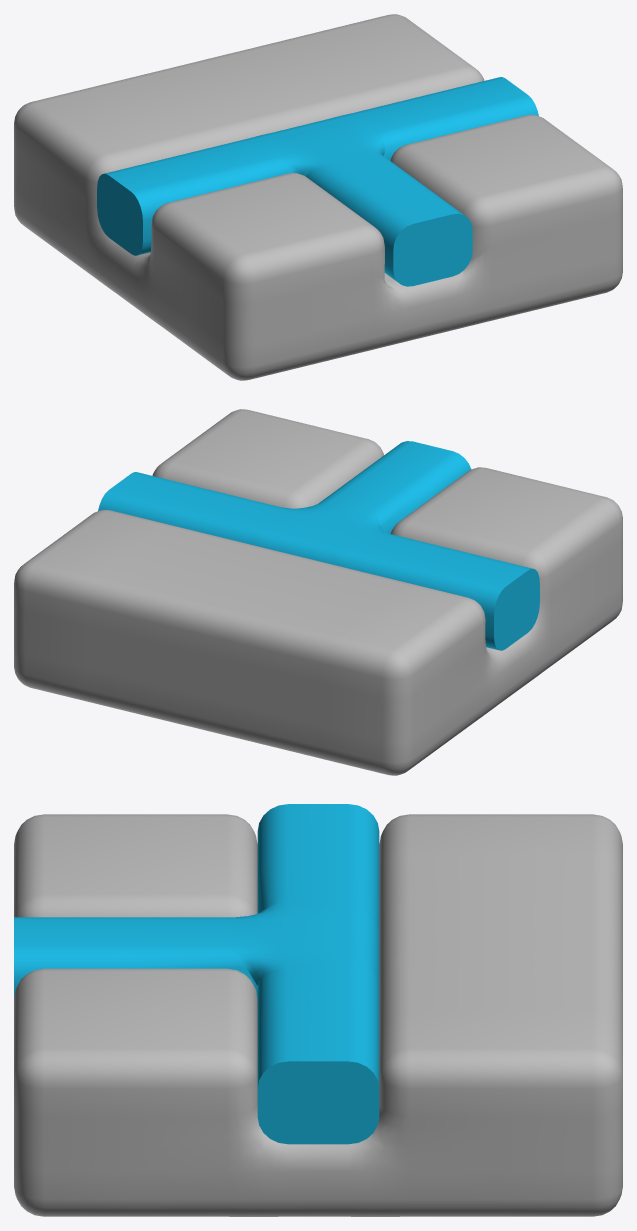
Rendered from Piso 3.fbx.
The picture shows the model from 3 angles, top to bottom: view 1: azimuth 30°, elevation 25°; view 2: azimuth 150°, elevation 25°; view 3: azimuth 270°, elevation 25°; orthographic projection. The views are drawn at different scales.
Visible parts, largest first — view 1: Piso 3; view 2: Piso 3; view 3: Piso 3.
Part boxes in pixels (bbox=[...]): Piso 3: bbox=[14, 14, 622, 380]; Piso 3: bbox=[14, 409, 622, 775]; Piso 3: bbox=[14, 804, 622, 1216].
Bounding box in the file's own units: 200 × 60 × 200.
